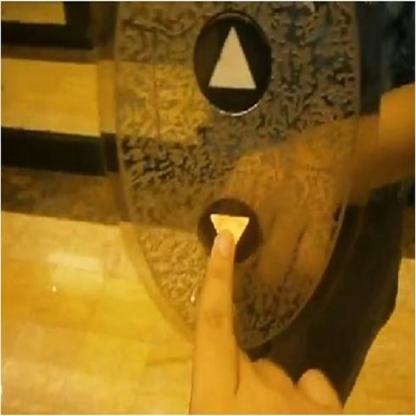down: (198, 197, 260, 263)
up: (193, 10, 272, 115)
